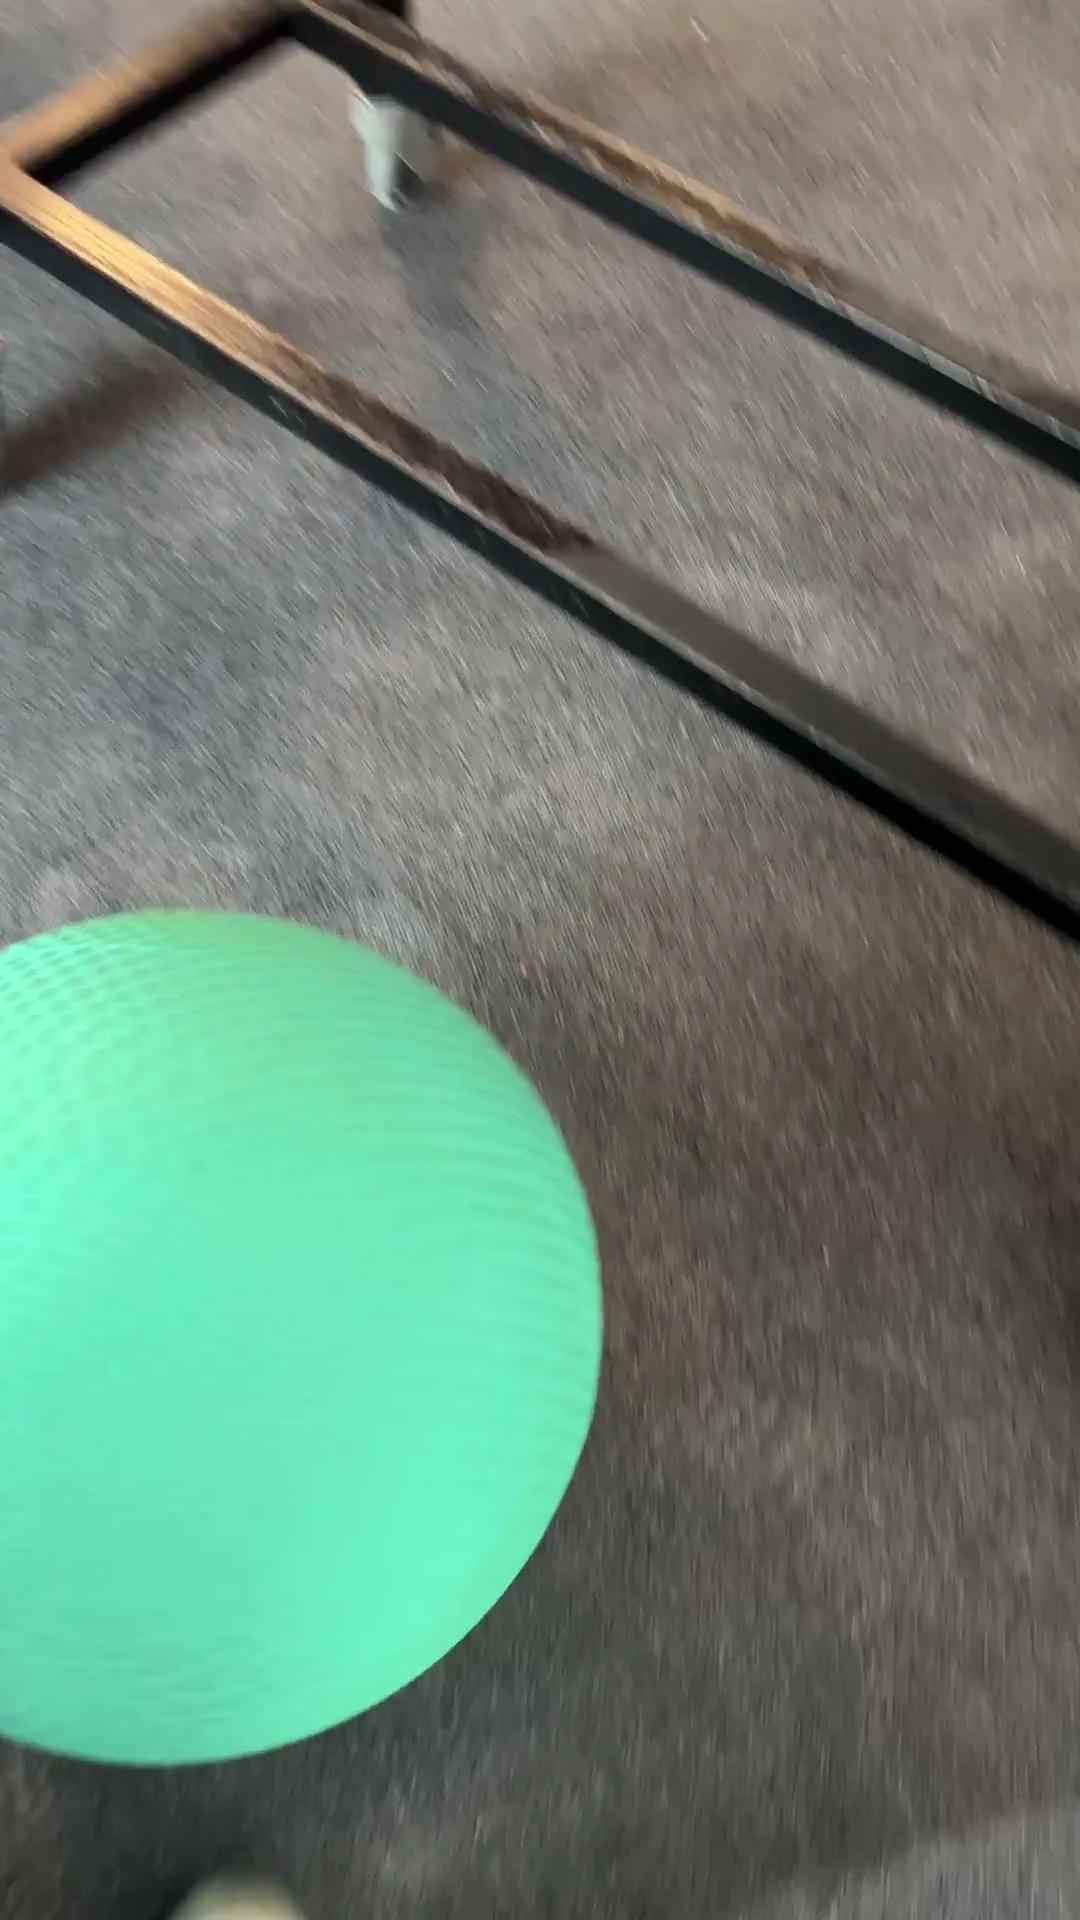ALGAE: (1, 905, 605, 1768)
